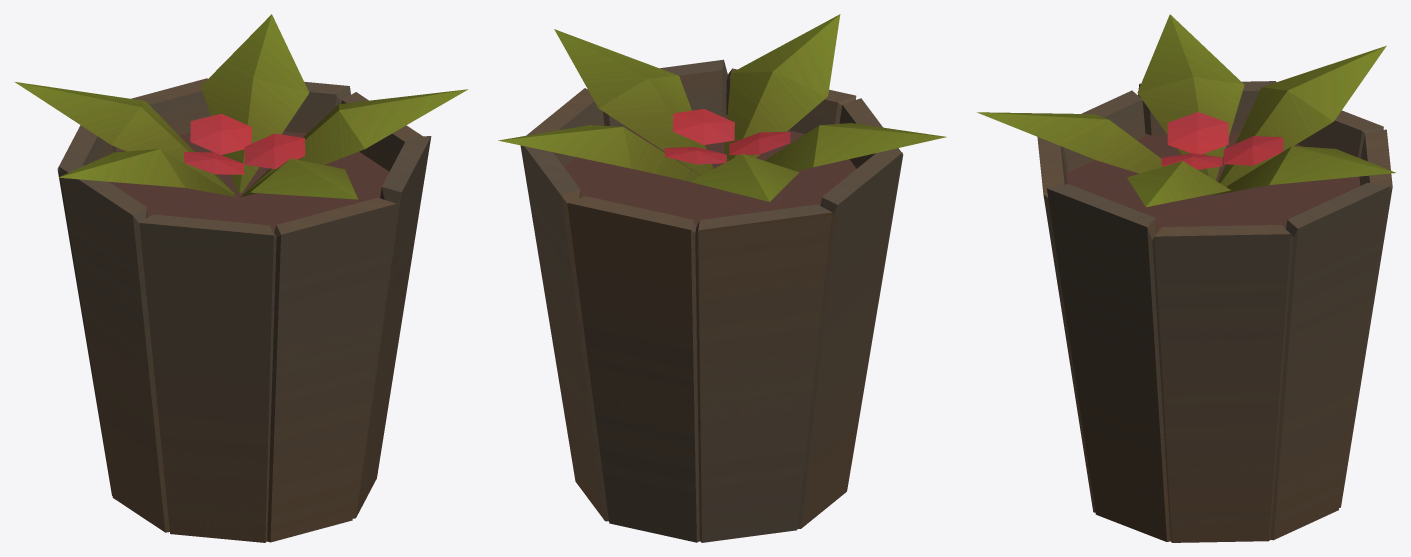
File: Flower_Pot_2B.fbx
3 renders of one model, left to right at view 1: azimuth 30°, elevation 25°; view 2: azimuth 150°, elevation 25°; view 3: azimuth 270°, elevation 25°, orthographic. The views are drawn at different scales.
Visible parts, largest first — view 1: polySurface10674; view 2: polySurface10674; view 3: polySurface10674.
Boxes of the visible parts, left/top/right/bottom form: polySurface10674: left=15, top=14, right=467, bottom=542; polySurface10674: left=498, top=14, right=946, bottom=542; polySurface10674: left=977, top=14, right=1395, bottom=542.
Bounding box in the file's own units: 84.55 × 76.36 × 77.74.
